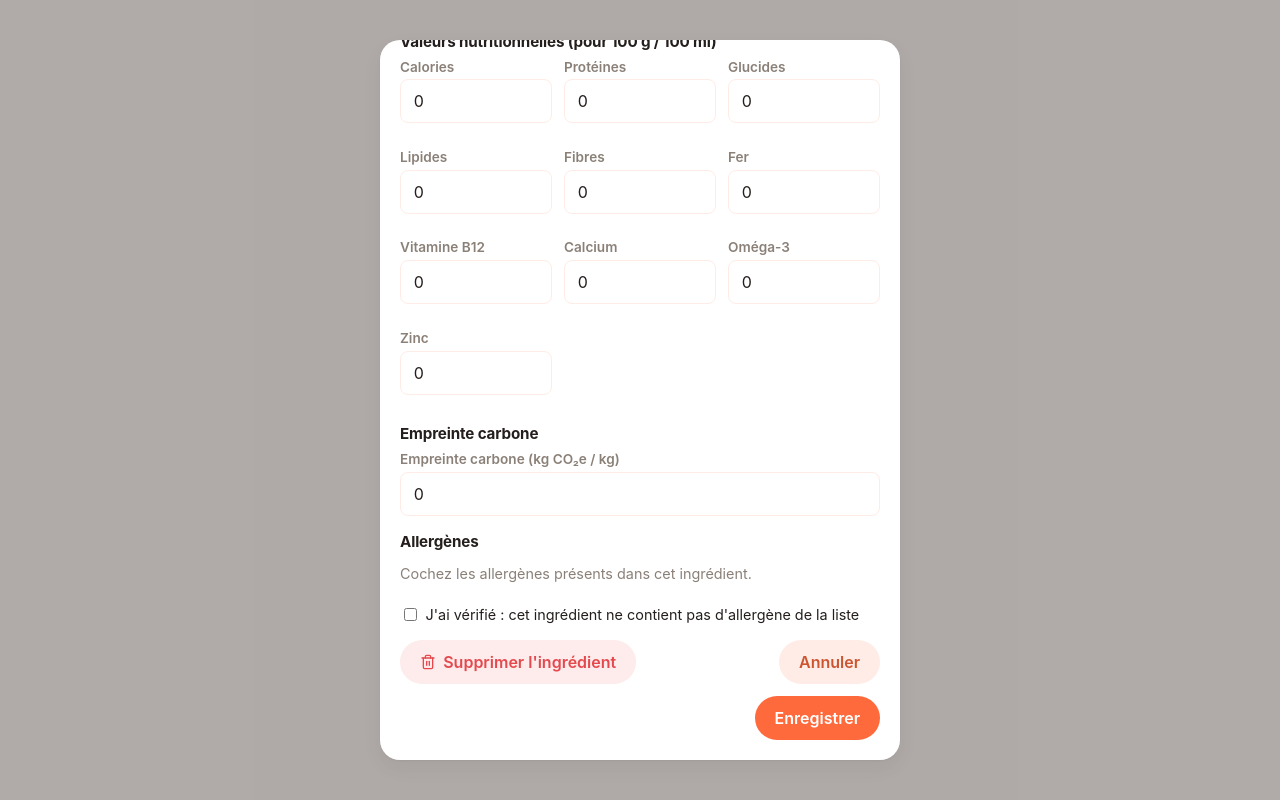
Scenario: IngredientEditModal › editing an ingredient created by the user › explains when the ingredient is still used
(page scrolled)
Click the button with test id "ingredient-modal-delete" at (518, 662), box [400,640,636,684]
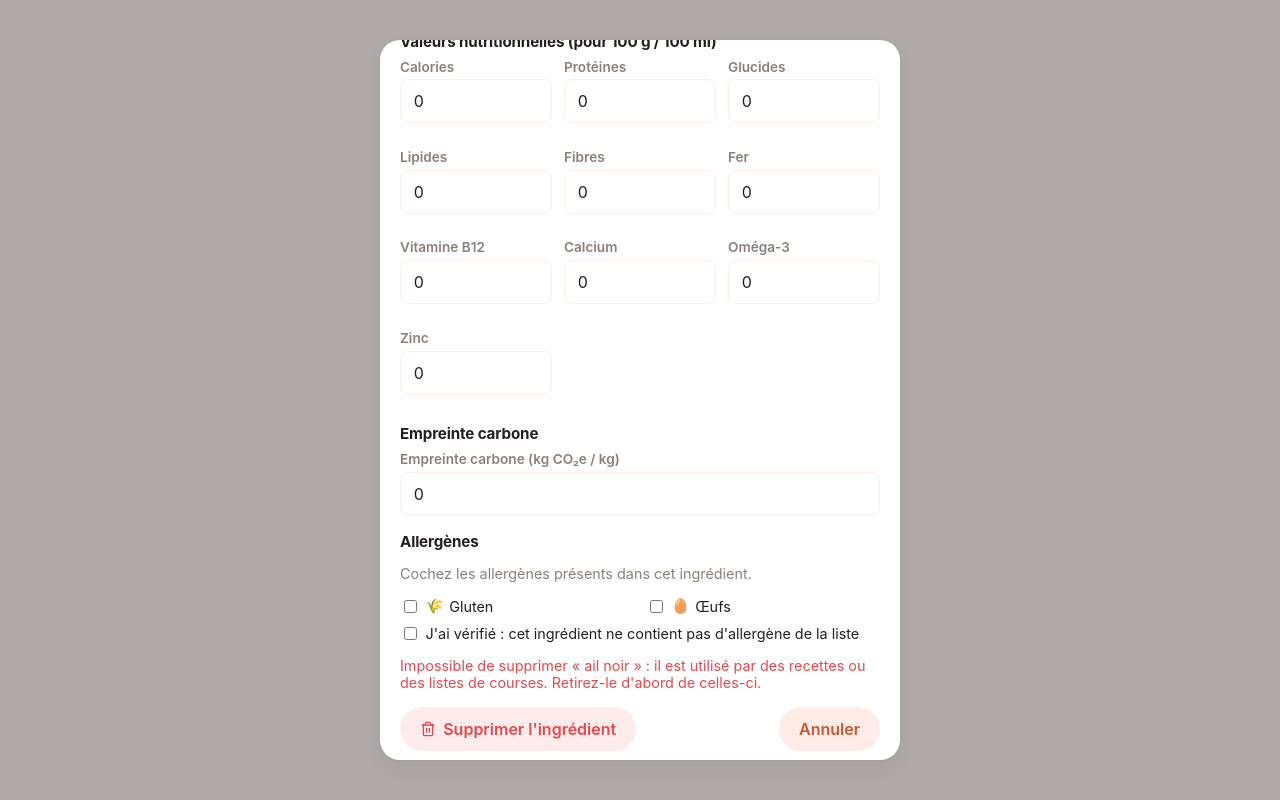
Now the message shows "utilisé par des recettes", box [400,657,866,691]
